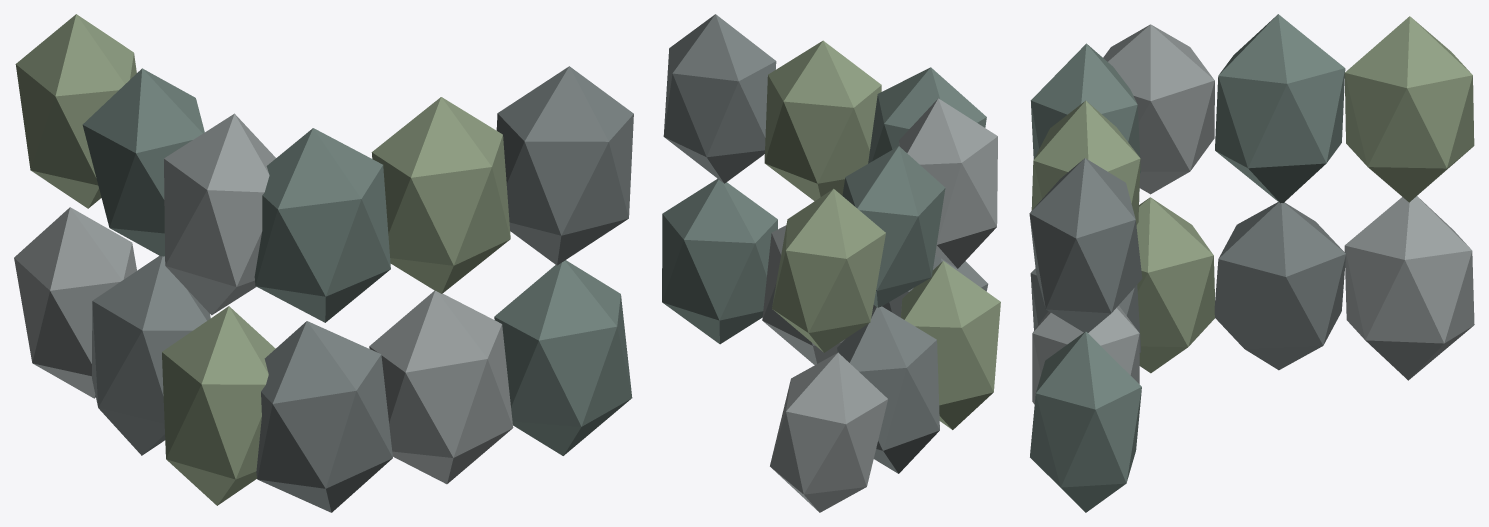
Rendered from wall_corner_outer_4x4x3.glb.
3 renders of one model, left to right at view 1: azimuth 30°, elevation 25°; view 2: azimuth 150°, elevation 25°; view 3: azimuth 270°, elevation 25°, orthographic. The views are drawn at different scales.
Parts seen in each view (by area): view 1: cave_wall_outer_09, cave_wall_outer_07, cave_wall_outer_01, cave_wall_outer_02, cave_wall_outer_08, cave_wall_outer_03, cave_wall_outer_10, cave_wall_outer_04, cave_wall_outer_05, cave_wall_outer_12, cave_wall_outer_06, cave_wall_outer_11; view 2: cave_wall_outer_03, cave_wall_outer_08, cave_wall_outer_09, cave_wall_outer_12, cave_wall_outer_06, cave_wall_outer_05, cave_wall_outer_04, cave_wall_outer_10, cave_wall_outer_11, cave_wall_outer_07, cave_wall_outer_02, cave_wall_outer_01; view 3: cave_wall_outer_11, cave_wall_outer_06, cave_wall_outer_12, cave_wall_outer_05, cave_wall_outer_03, cave_wall_outer_09, cave_wall_outer_10, cave_wall_outer_04, cave_wall_outer_08, cave_wall_outer_07, cave_wall_outer_02, cave_wall_outer_01.
Boxes of the visible parts, x1=… form: cave_wall_outer_09: x1=496, y1=66, x2=633, y2=265; cave_wall_outer_07: x1=254, y1=128, x2=390, y2=322; cave_wall_outer_01: x1=256, y1=321, x2=392, y2=512; cave_wall_outer_02: x1=369, y1=290, x2=513, y2=484; cave_wall_outer_08: x1=371, y1=97, x2=510, y2=293; cave_wall_outer_03: x1=494, y1=260, x2=632, y2=455; cave_wall_outer_10: x1=164, y1=113, x2=275, y2=315; cave_wall_outer_04: x1=162, y1=306, x2=275, y2=505; cave_wall_outer_05: x1=92, y1=256, x2=210, y2=455; cave_wall_outer_12: x1=15, y1=14, x2=136, y2=208; cave_wall_outer_06: x1=14, y1=207, x2=136, y2=398; cave_wall_outer_11: x1=82, y1=68, x2=204, y2=256; cave_wall_outer_03: x1=662, y1=178, x2=777, y2=344; cave_wall_outer_08: x1=764, y1=40, x2=881, y2=201; cave_wall_outer_09: x1=663, y1=14, x2=776, y2=183; cave_wall_outer_12: x1=772, y1=188, x2=885, y2=352; cave_wall_outer_06: x1=770, y1=352, x2=887, y2=512; cave_wall_outer_05: x1=837, y1=306, x2=939, y2=473; cave_wall_outer_04: x1=901, y1=261, x2=1000, y2=429; cave_wall_outer_10: x1=899, y1=98, x2=997, y2=268; cave_wall_outer_11: x1=842, y1=146, x2=945, y2=307; cave_wall_outer_07: x1=868, y1=67, x2=986, y2=163; cave_wall_outer_02: x1=762, y1=225, x2=844, y2=364; cave_wall_outer_01: x1=872, y1=255, x2=988, y2=317; cave_wall_outer_11: x1=1215, y1=14, x2=1345, y2=203; cave_wall_outer_06: x1=1344, y1=196, x2=1474, y2=380; cave_wall_outer_12: x1=1344, y1=16, x2=1474, y2=202; cave_wall_outer_05: x1=1214, y1=202, x2=1345, y2=370; cave_wall_outer_03: x1=1030, y1=331, x2=1141, y2=512; cave_wall_outer_09: x1=1029, y1=158, x2=1142, y2=332; cave_wall_outer_10: x1=1103, y1=24, x2=1214, y2=194; cave_wall_outer_04: x1=1136, y1=197, x2=1215, y2=373; cave_wall_outer_08: x1=1031, y1=100, x2=1140, y2=225; cave_wall_outer_07: x1=1030, y1=43, x2=1140, y2=173; cave_wall_outer_02: x1=1032, y1=305, x2=1139, y2=404; cave_wall_outer_01: x1=1030, y1=268, x2=1140, y2=352.
Bounding box in the file's own units: 3.51 × 3.05 × 3.44.
